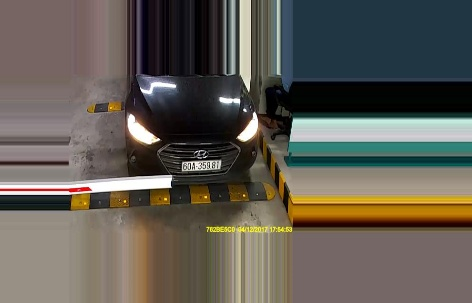plate: (179, 159, 224, 173)
